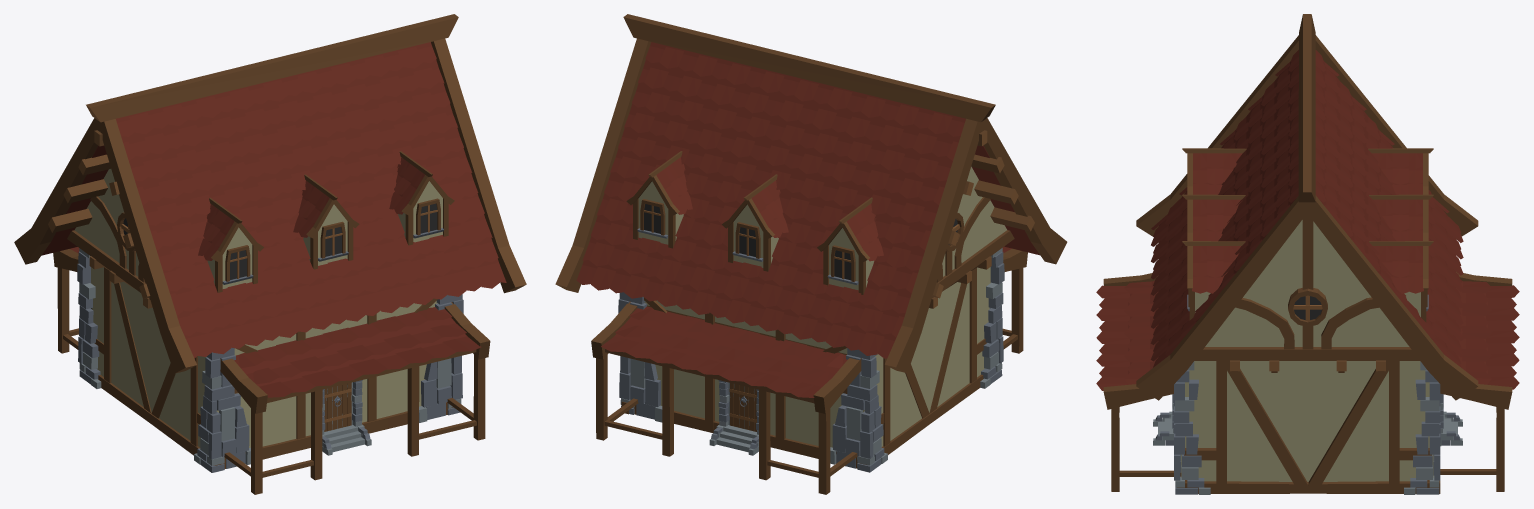
File: FantasyInn.ready.glb
3 renders of one model, left to right at view 1: azimuth 30°, elevation 25°; view 2: azimuth 150°, elevation 25°; view 3: azimuth 270°, elevation 25°, orthographic.
Parts seen in each view (by area): view 1: FantasyInn; view 2: FantasyInn; view 3: FantasyInn.
Part boxes in pixels (<box>): FantasyInn: <box>14,14,526,494</box>; FantasyInn: <box>555,14,1067,494</box>; FantasyInn: <box>1096,14,1519,494</box>.
Bounding box in the file's own units: 4.03 × 3.49 × 4.02.
1 material, 1 textured.
